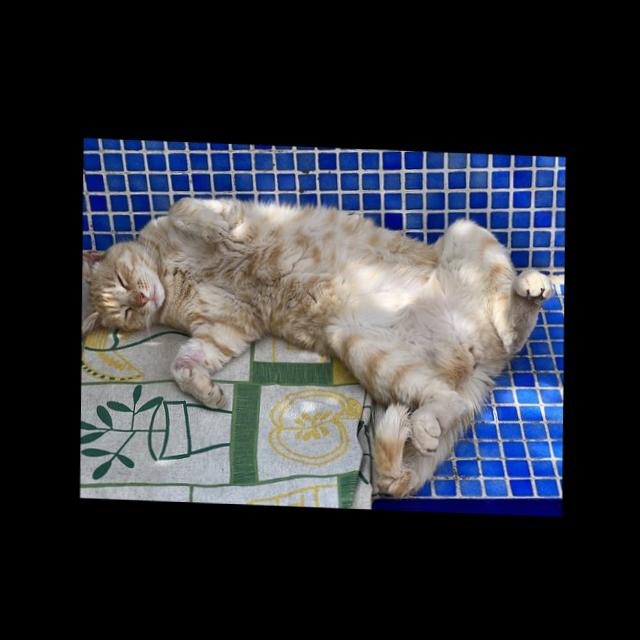animals: (77, 191, 553, 501)
